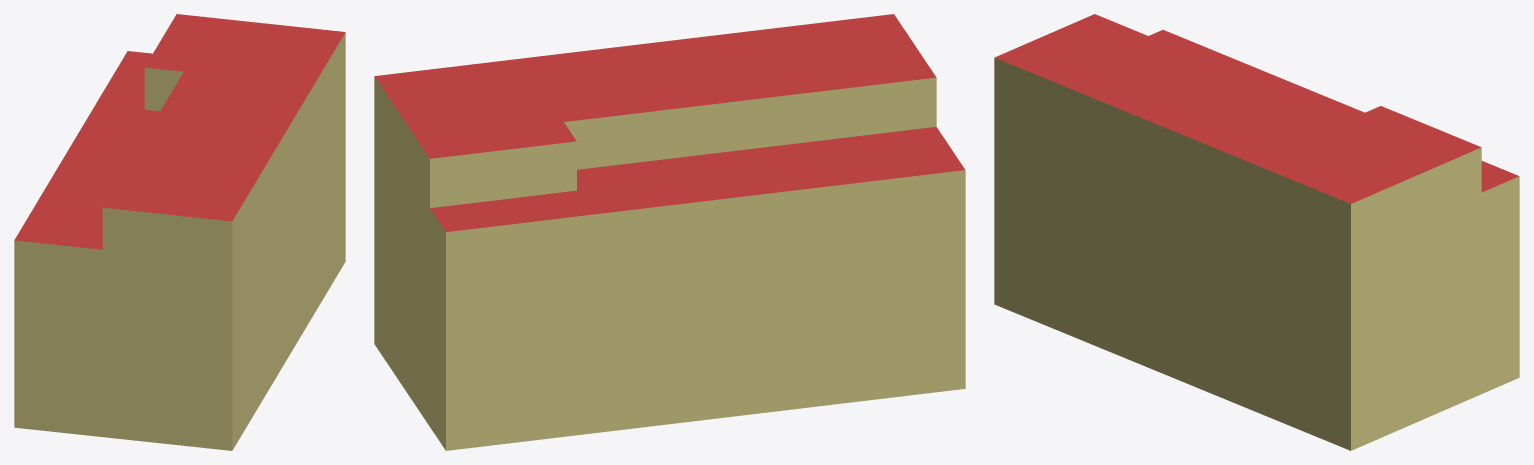
The picture shows the model from 3 angles, left to right: view 1: azimuth 30°, elevation 25°; view 2: azimuth 150°, elevation 25°; view 3: azimuth 270°, elevation 25°; orthographic projection. The views are drawn at different scales.
Parts seen in each view (by area): view 1: group_4, group_3, group_7, group_6; view 2: group_7, group_4, group_3, group_6; view 3: group_4, group_3, group_7, group_6.
Boxes of the visible parts, x1,y1,x2,y2 form: group_4: (102, 32, 345, 450); group_3: (103, 14, 345, 221); group_7: (14, 240, 102, 436); group_6: (14, 51, 159, 249); group_7: (430, 170, 965, 450); group_4: (374, 76, 936, 426); group_3: (374, 14, 936, 158); group_6: (430, 127, 964, 231); group_4: (994, 57, 1481, 450); group_3: (995, 14, 1481, 203); group_7: (1481, 176, 1519, 393); group_6: (1149, 30, 1518, 192).
Bounding box in the file's own units: 23.26 × 23.49 × 12.18.
